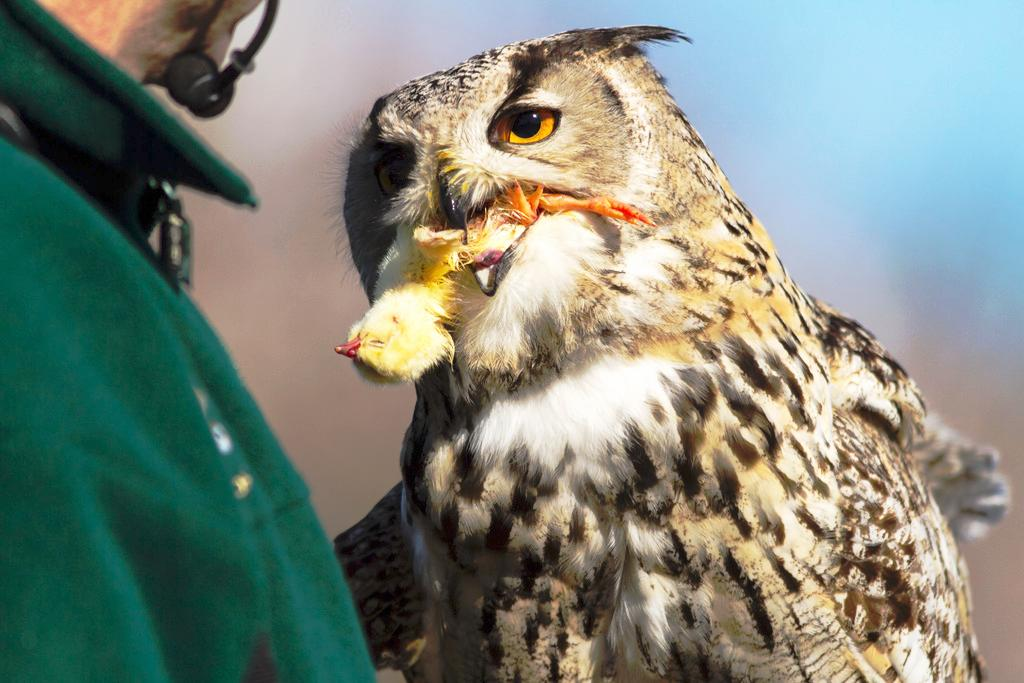Owl: (316, 28, 999, 683)
